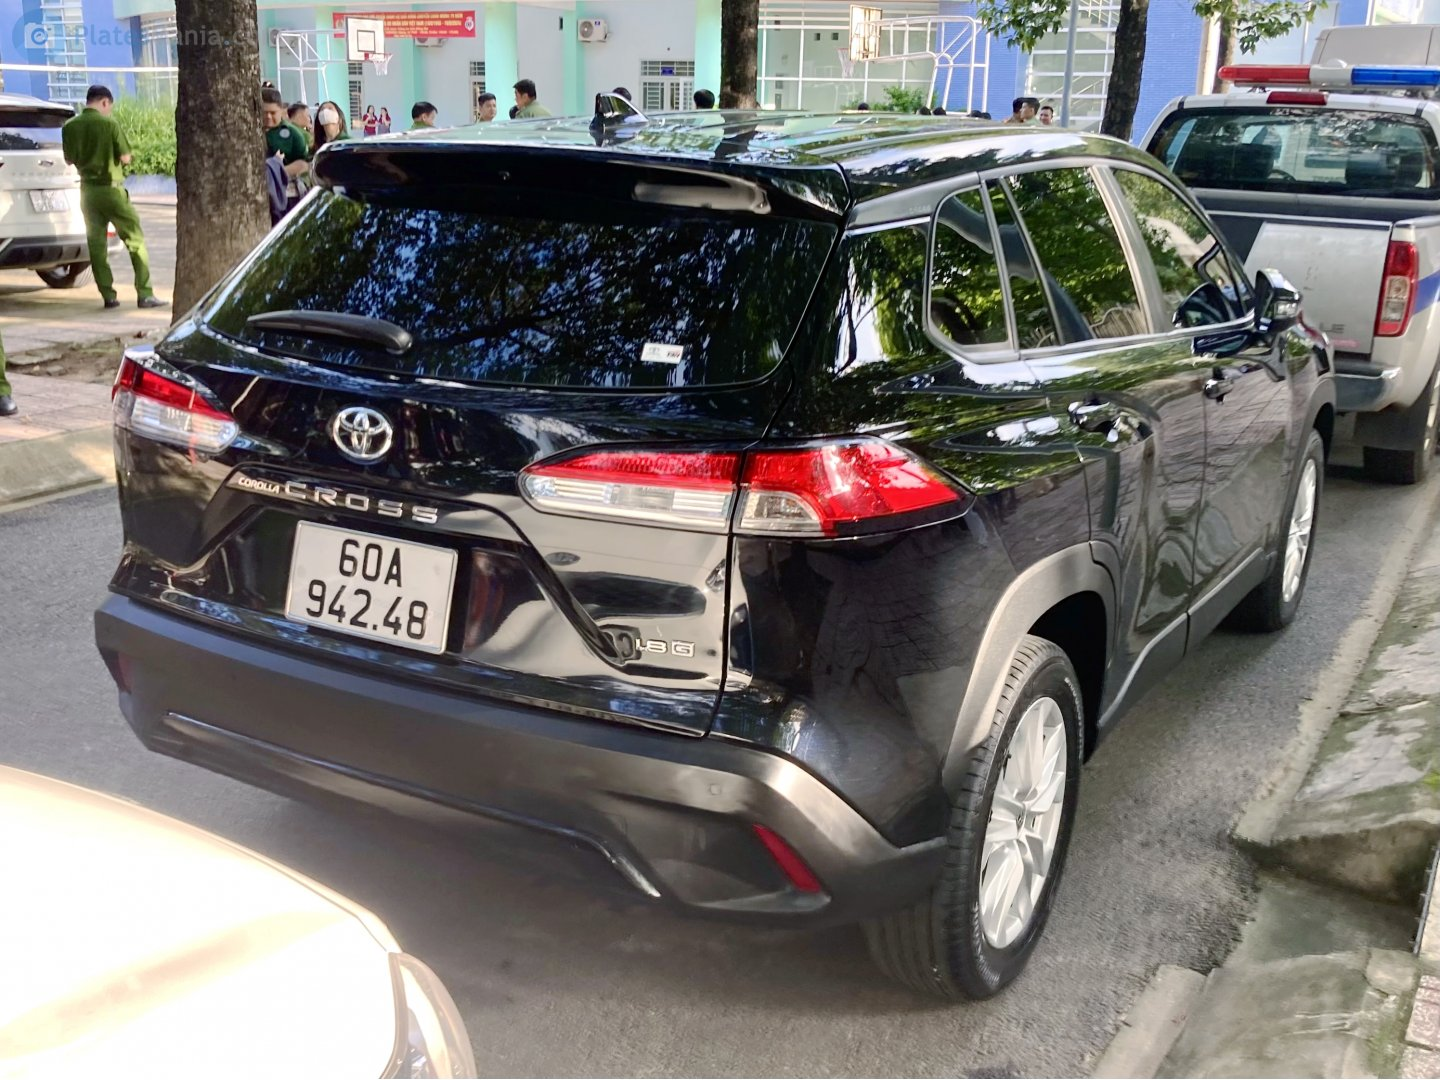bien_so: (286, 521, 454, 652)
